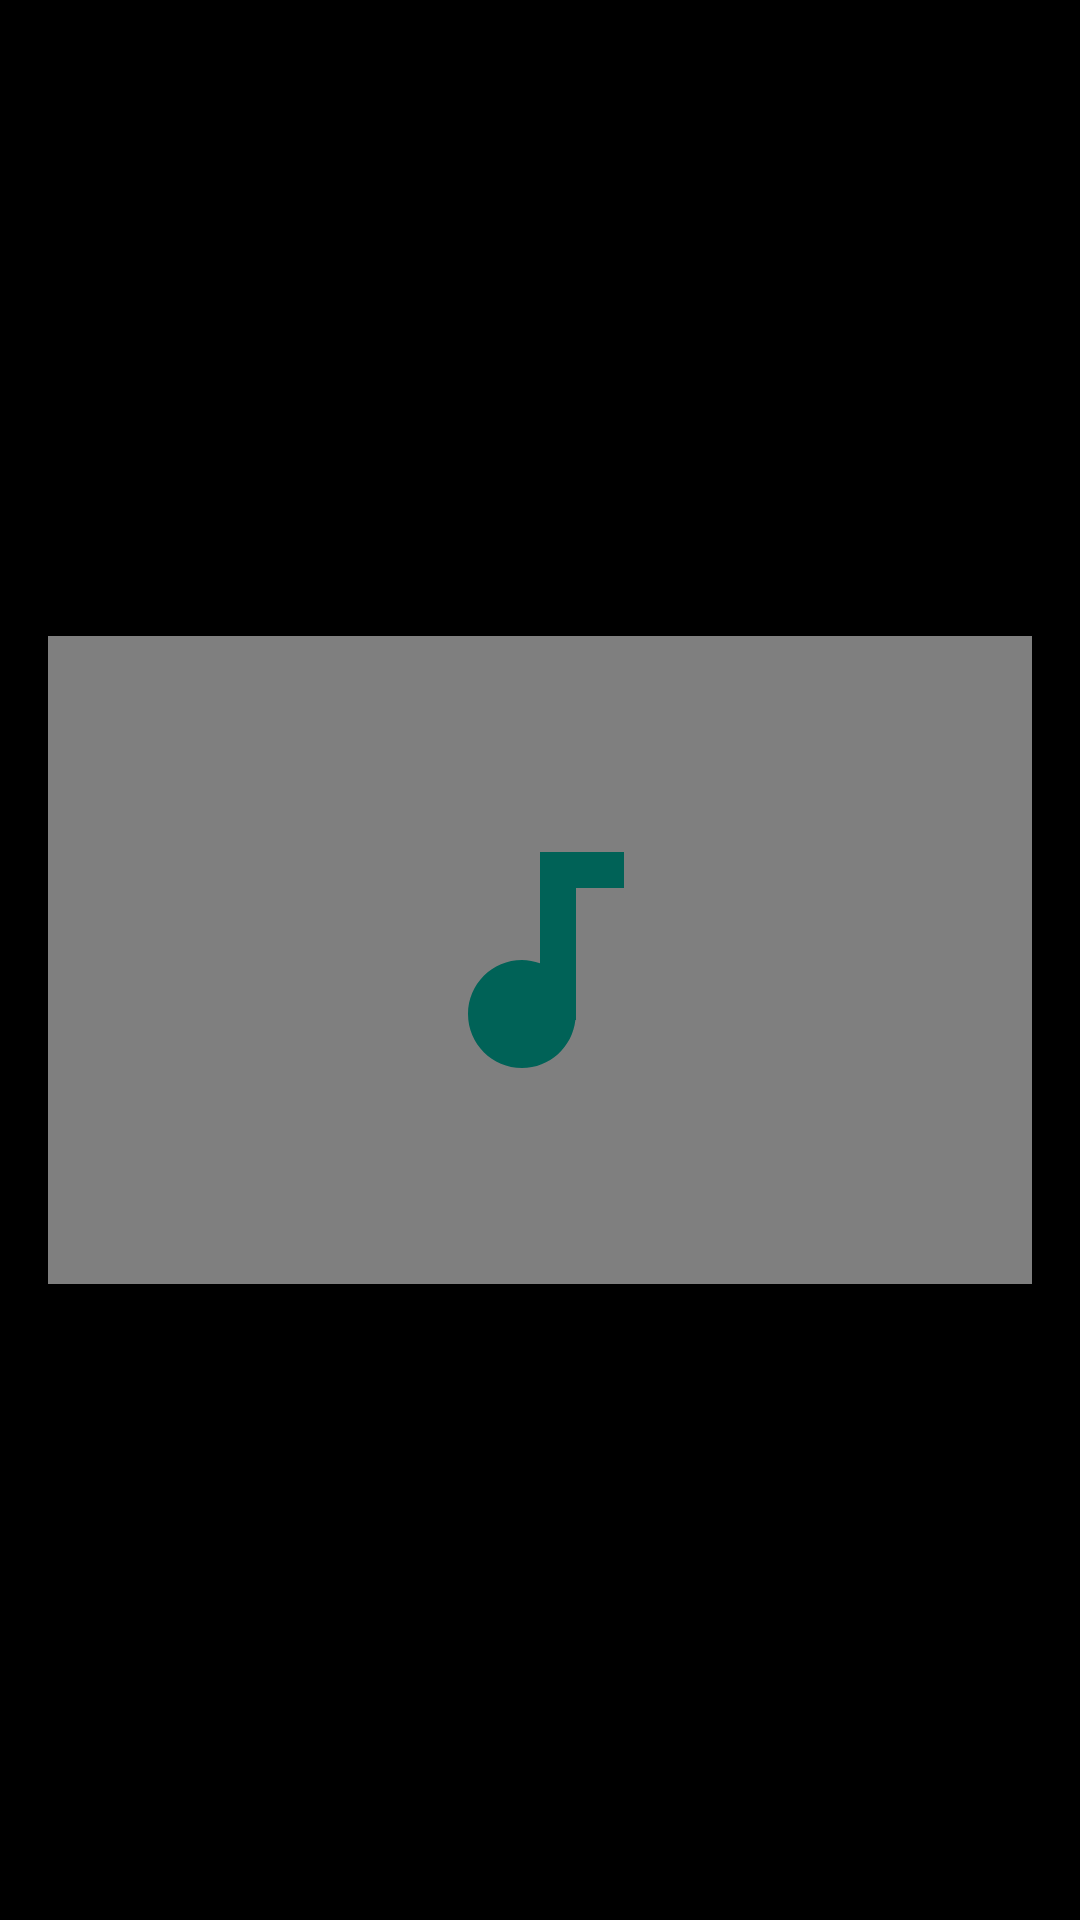

Where icons sit on this 1080px x 1920px app screen, as [x1, y1, x2, y2]:
audio: [468, 852, 624, 1068]
